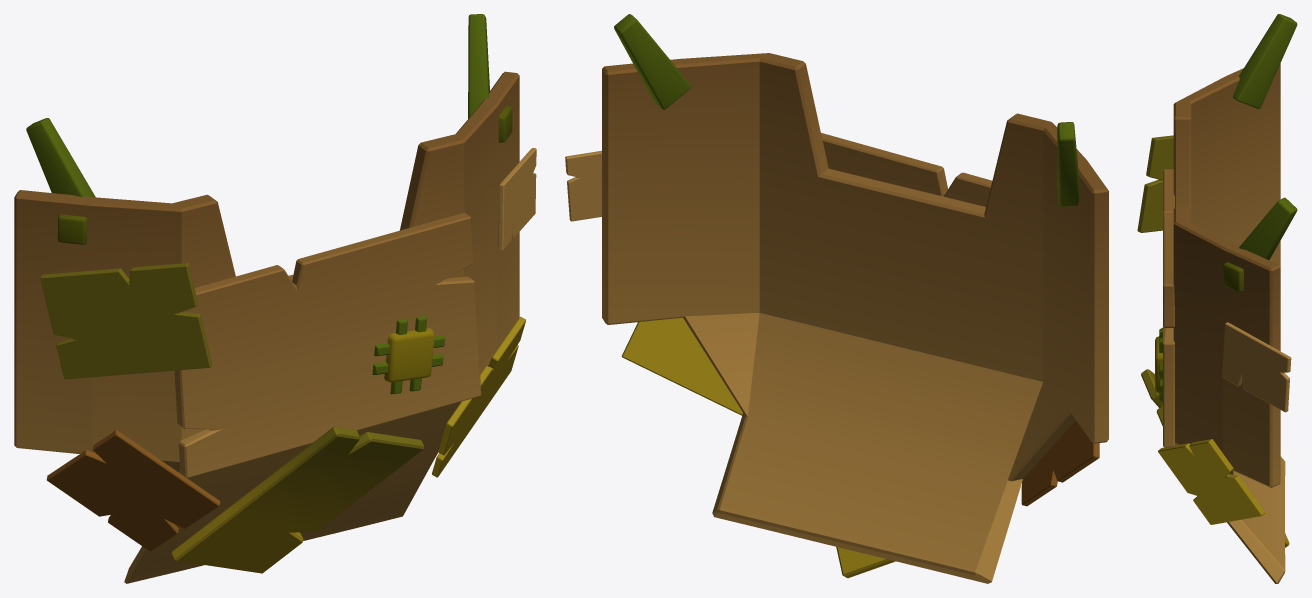
Rendered from Armor01.fbx.
The picture shows the model from 3 angles, left to right: view 1: azimuth 30°, elevation 25°; view 2: azimuth 150°, elevation 25°; view 3: azimuth 270°, elevation 25°; orthographic projection. The views are drawn at different scales.
Visible parts, largest first — view 1: Armor01; view 2: Armor01; view 3: Armor01.
Part boxes in pixels (x1,y1,x2,y2): Armor01: [14, 14, 536, 583]; Armor01: [565, 14, 1108, 583]; Armor01: [1137, 14, 1297, 583].
Bounding box in the file's own units: 61.15 × 18.36 × 55.79.
1 material, 1 textured.
